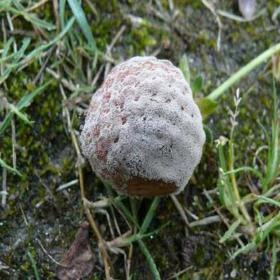Gray Mold: (79, 56, 207, 197)
